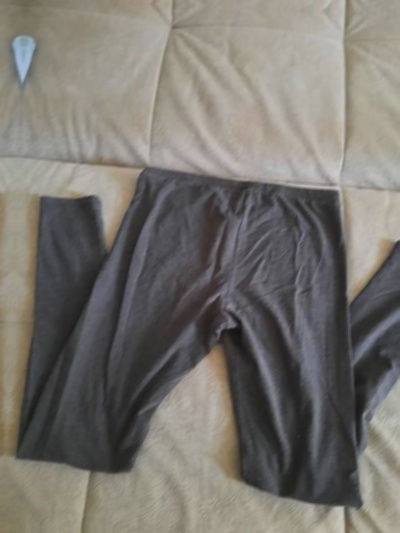Pants: (4, 137, 400, 510), (0, 119, 19, 492)
